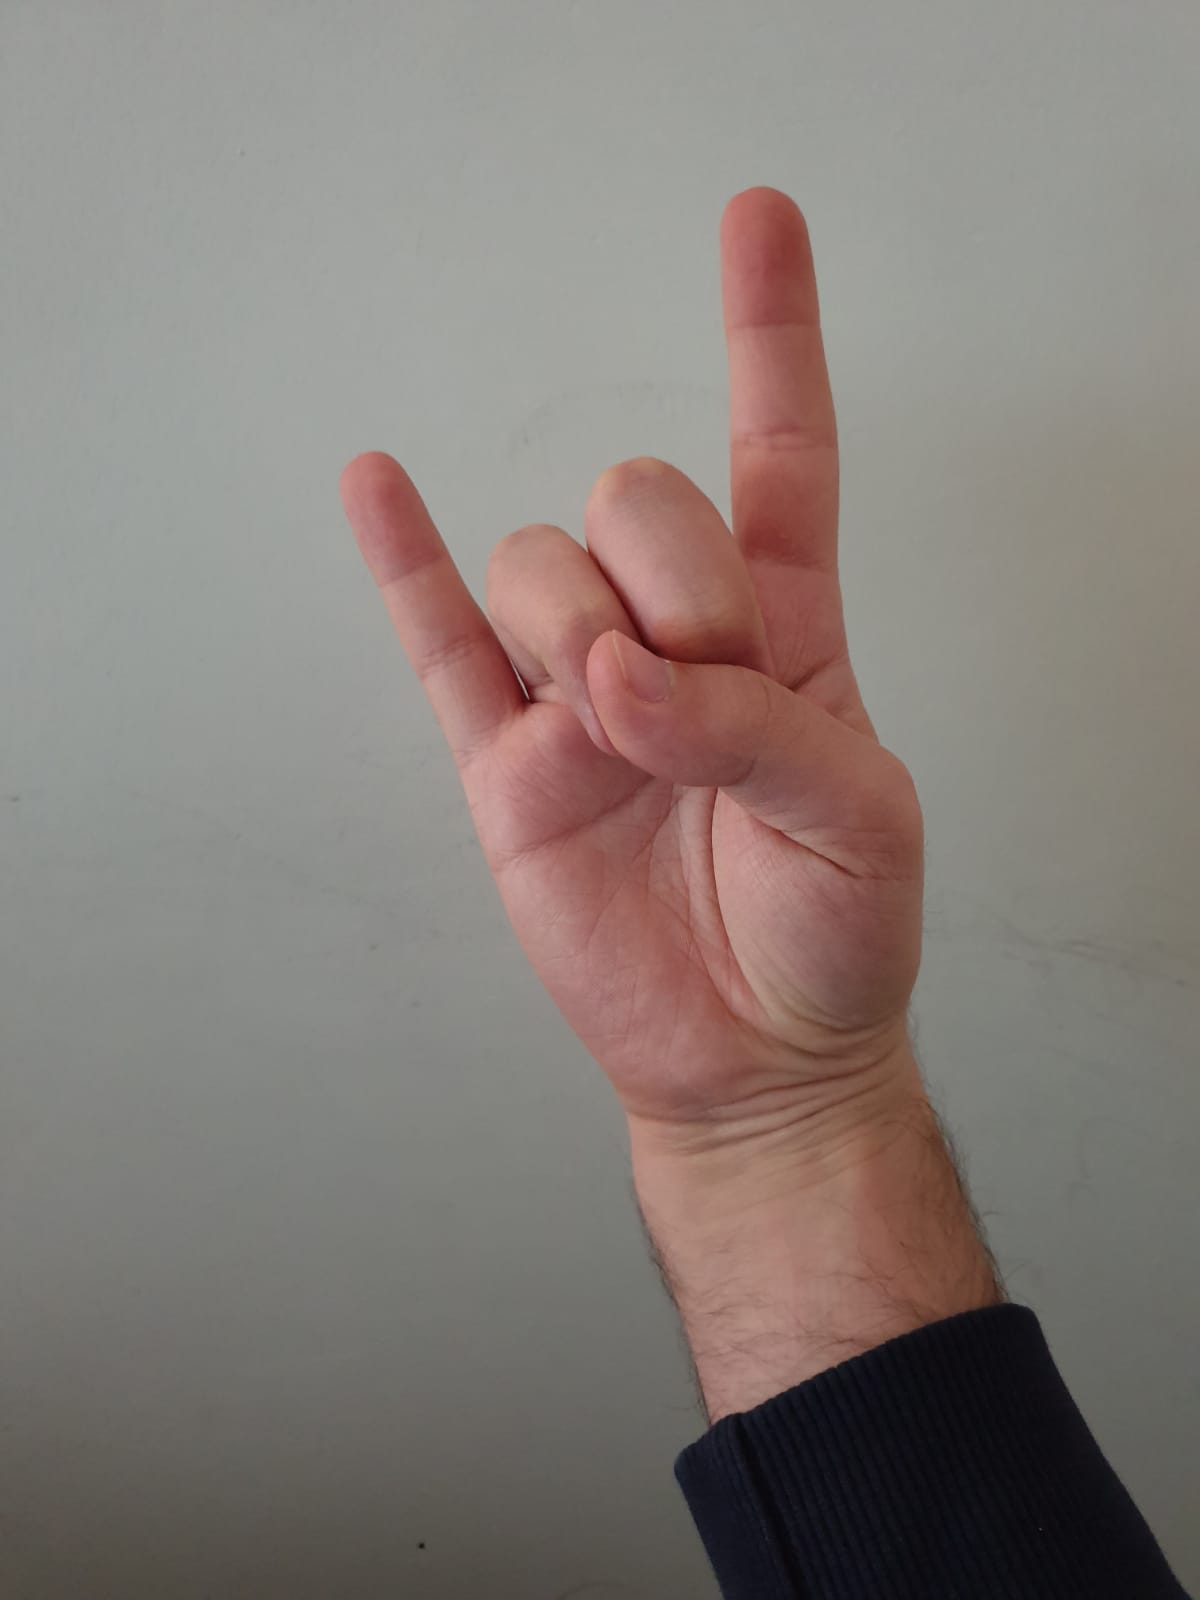Love: (337, 181, 932, 1194)
